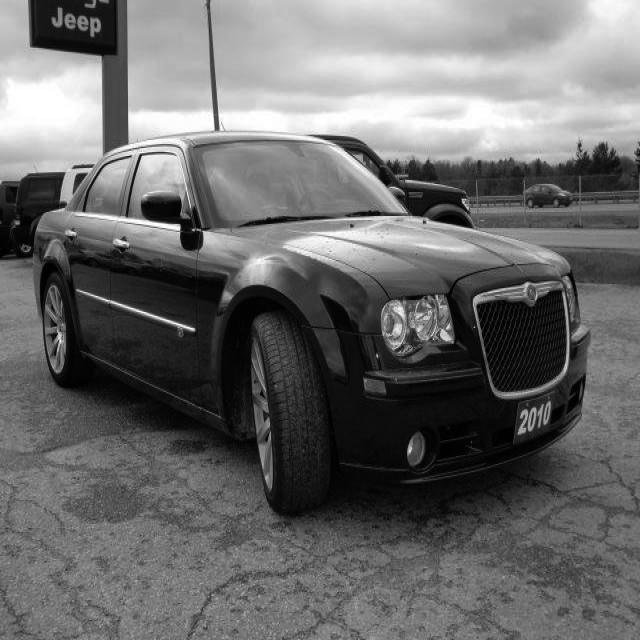car: (30, 128, 591, 516), (309, 133, 475, 228), (522, 183, 574, 208)
